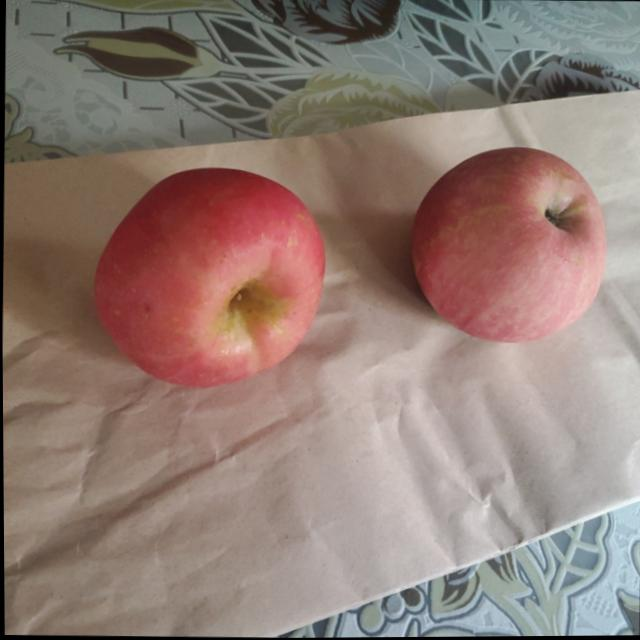apple: (96, 164, 329, 386), (411, 149, 608, 351)
